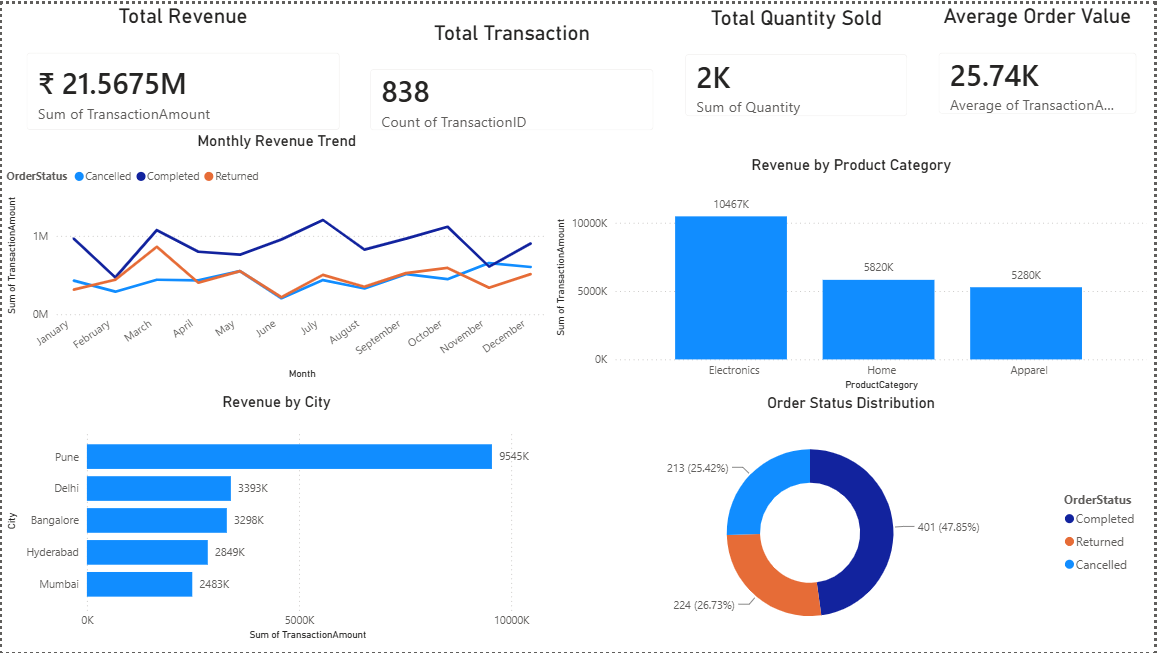

Layout of this report page (visuals, bound fields, positions):
{"tool":"powerbi","page":{"name":"E commerce sales dashboard","canvas":[1280,720],"ordinal":0},"visuals":[{"type":"cardVisual","title":"Total Revenue","fields":{"Data":["Sum(Sheet_1___Retail_Transactions.TransactionAmount)"]},"box":[9.7,0,382.1,157.1],"z":0},{"type":"cardVisual","title":"Total Transaction","fields":{"Data":["Count(Sheet_1___Retail_Transactions.TransactionID)"]},"box":[391.9,17.8,349.8,139.3],"z":1000},{"type":"cardVisual","title":"Total Quantity Sold","fields":{"Data":["Sum(Sheet_1___Retail_Transactions.Quantity)"]},"box":[741.6,1.6,281.7,140.9],"z":2000},{"type":"cardVisual","title":"Average Order Value","fields":{"Data":["Avg(Sheet_1___Retail_Transactions.TransactionAmount)"]},"box":[1023.4,0,254.2,139.3],"z":3000},{"type":"lineChart","title":"Monthly Revenue Trend","fields":{"Category":["Sheet_1___Retail_Transactions.TransactionDate.Variation.Date Hierarchy.Year","Sheet_1___Retail_Transactions.TransactionDate.Variation.Date Hierarchy.Month"],"Y":["Sum(Sheet_1___Retail_Transactions.TransactionAmount)"],"Series":["Sheet_1___Retail_Transactions.OrderStatus"]},"box":[0,142.5,610.4,280.1],"z":4000},{"type":"clusteredColumnChart","title":"Revenue by Product Category","fields":{"Category":["Sheet_1___Retail_Transactions.ProductCategory"],"Y":["Sum(Sheet_1___Retail_Transactions.TransactionAmount)"]},"box":[610.4,168.4,667.1,265.6],"z":5000},{"type":"barChart","title":"Revenue by City","fields":{"Category":["Sheet_1___Retail_Transactions.City"],"Y":["Sum(Sheet_1___Retail_Transactions.TransactionAmount)"]},"box":[0,432,610,280],"z":6000},{"type":"donutChart","title":"Order Status Distribution","fields":{"Category":["Sheet_1___Retail_Transactions.OrderStatus"],"Y":["CountNonNull(Sheet_1___Retail_Transactions.TransactionID)"]},"box":[610,434,667,278],"z":7000}]}

Visuals, with their boxes in screenshot pixels (x1, y1, x2, y2), scaled from the page's 1280x720 canvas onto the 1157x653 screenshot:
"Total Revenue" cardVisual: {"x1": 9, "y1": 0, "x2": 354, "y2": 142}
"Total Transaction" cardVisual: {"x1": 354, "y1": 16, "x2": 670, "y2": 142}
"Total Quantity Sold" cardVisual: {"x1": 670, "y1": 1, "x2": 925, "y2": 129}
"Average Order Value" cardVisual: {"x1": 925, "y1": 0, "x2": 1155, "y2": 126}
"Monthly Revenue Trend" lineChart: {"x1": 0, "y1": 129, "x2": 552, "y2": 383}
"Revenue by Product Category" clusteredColumnChart: {"x1": 552, "y1": 153, "x2": 1155, "y2": 394}
"Revenue by City" barChart: {"x1": 0, "y1": 392, "x2": 551, "y2": 646}
"Order Status Distribution" donutChart: {"x1": 551, "y1": 394, "x2": 1154, "y2": 646}
